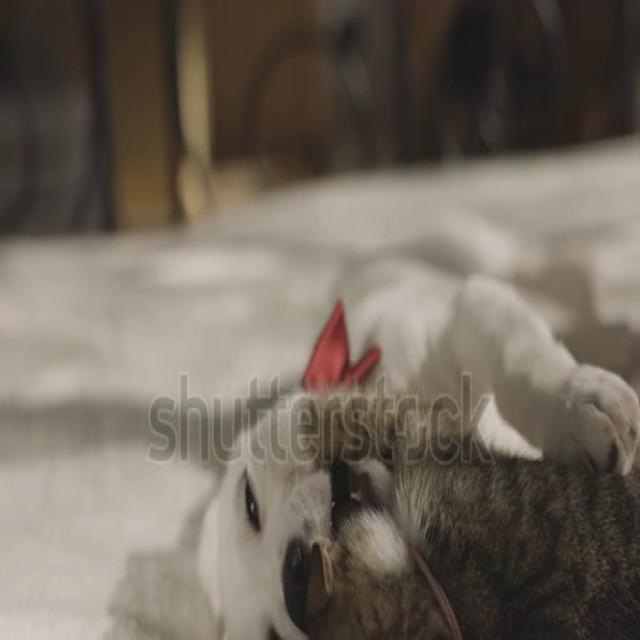normal_animals: (109, 228, 639, 640)
